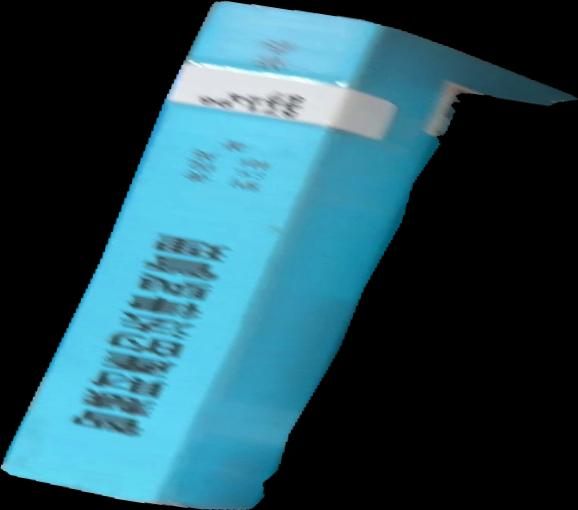reverse: (1, 1, 578, 510)
